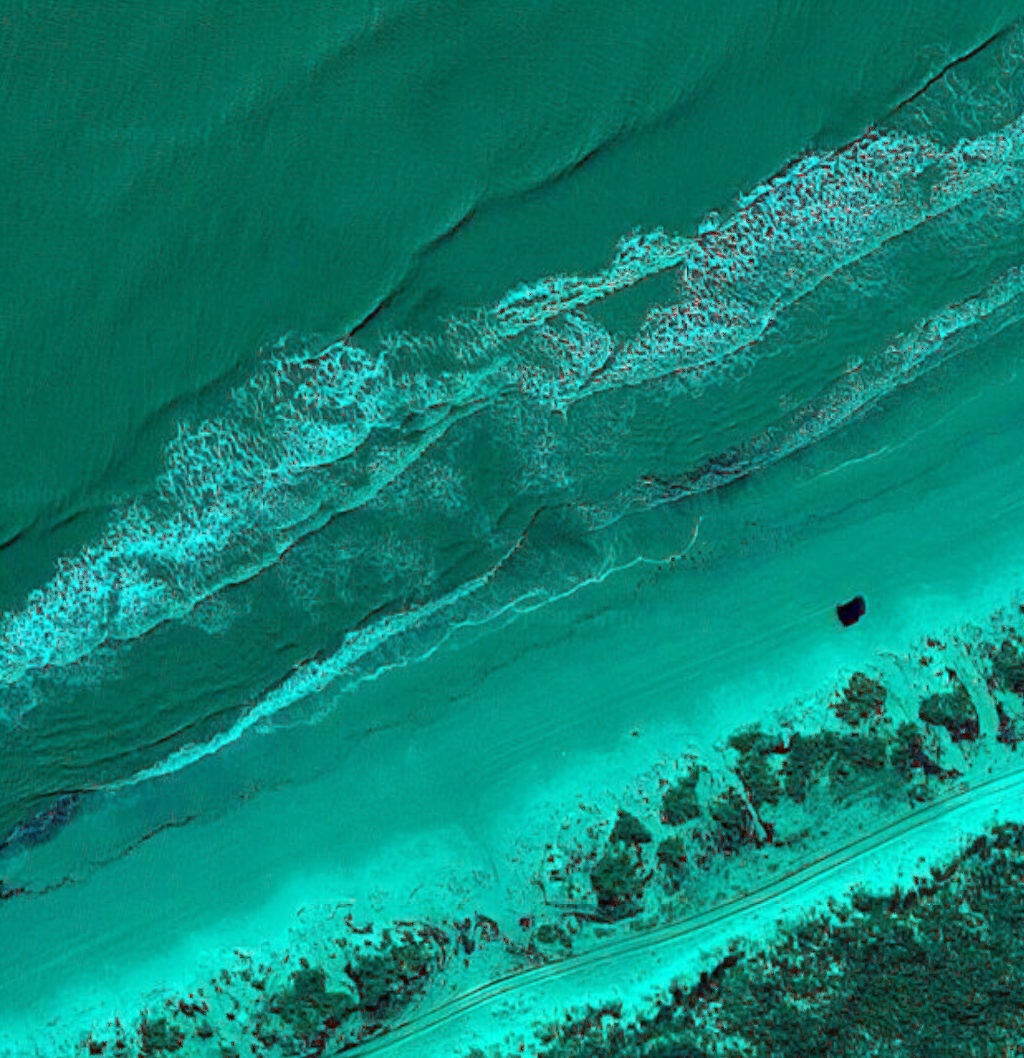rip_current: (321, 341, 605, 557)
